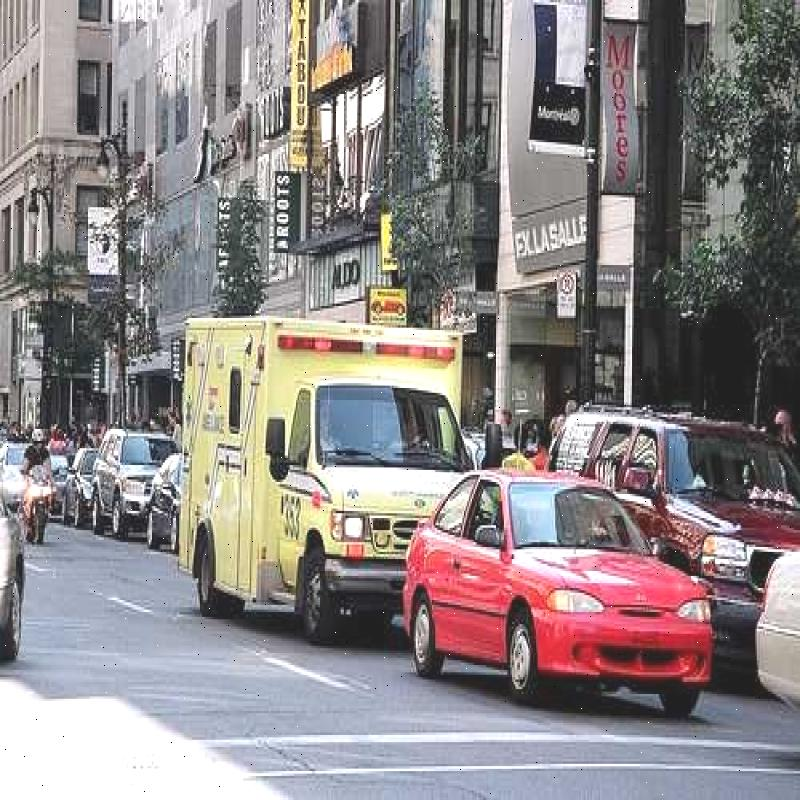AmbulanceSiren: (277, 324, 456, 369)
